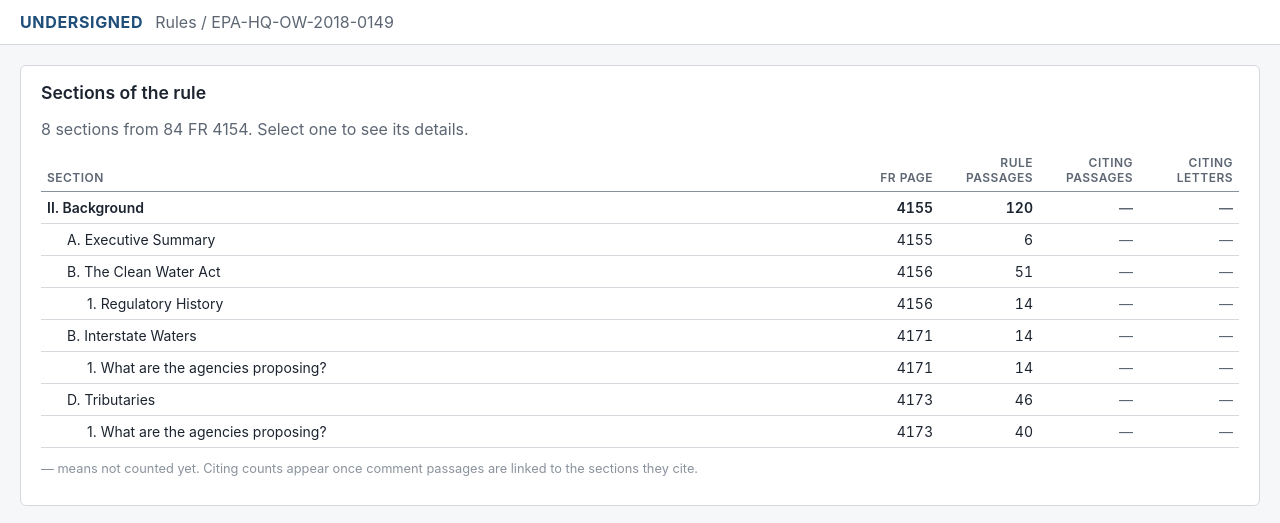
Scenario: clicking anywhere on a row selects it
The width and height of the screenshot is (1280, 523).
Click the text "6" at [989, 240], box left=939, top=224, right=1039, bottom=256
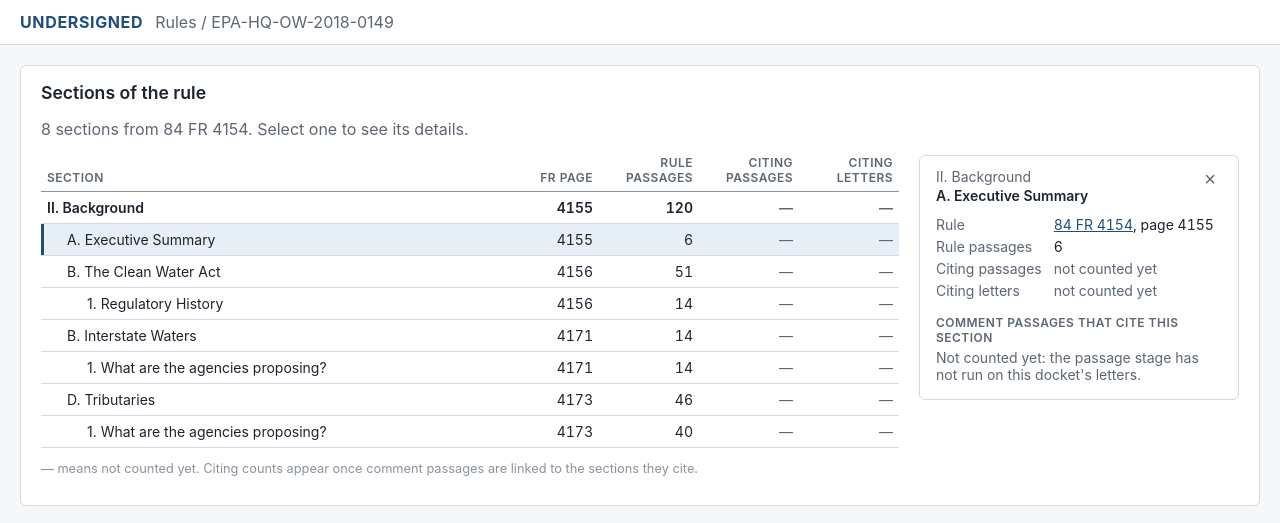
Result: the list item "A. Executive Summary" is shown at left=936, top=187, right=1088, bottom=204
